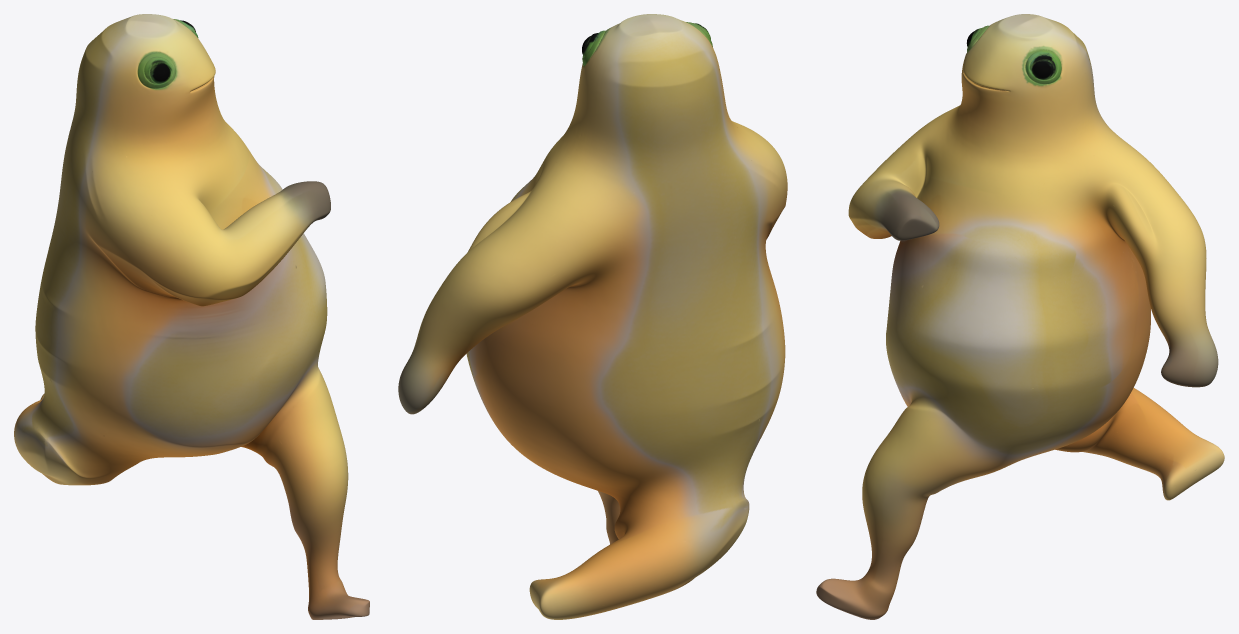
Rendered from frog-run-v2-fix.glb.
The picture shows the model from 3 angles, left to right: view 1: azimuth 30°, elevation 25°; view 2: azimuth 150°, elevation 25°; view 3: azimuth 270°, elevation 25°; orthographic projection. The views are drawn at different scales.
Visible parts, largest first — view 1: node_0; view 2: node_0; view 3: node_0.
Boxes of the visible parts, left/top/right/bottom form: node_0: left=14, top=14, right=369, bottom=619; node_0: left=398, top=14, right=787, bottom=619; node_0: left=816, top=14, right=1224, bottom=619.
Bounding box in the file's own units: 0.4831 × 1.02 × 0.6908.
Materials: 1 (1 with a texture image).
